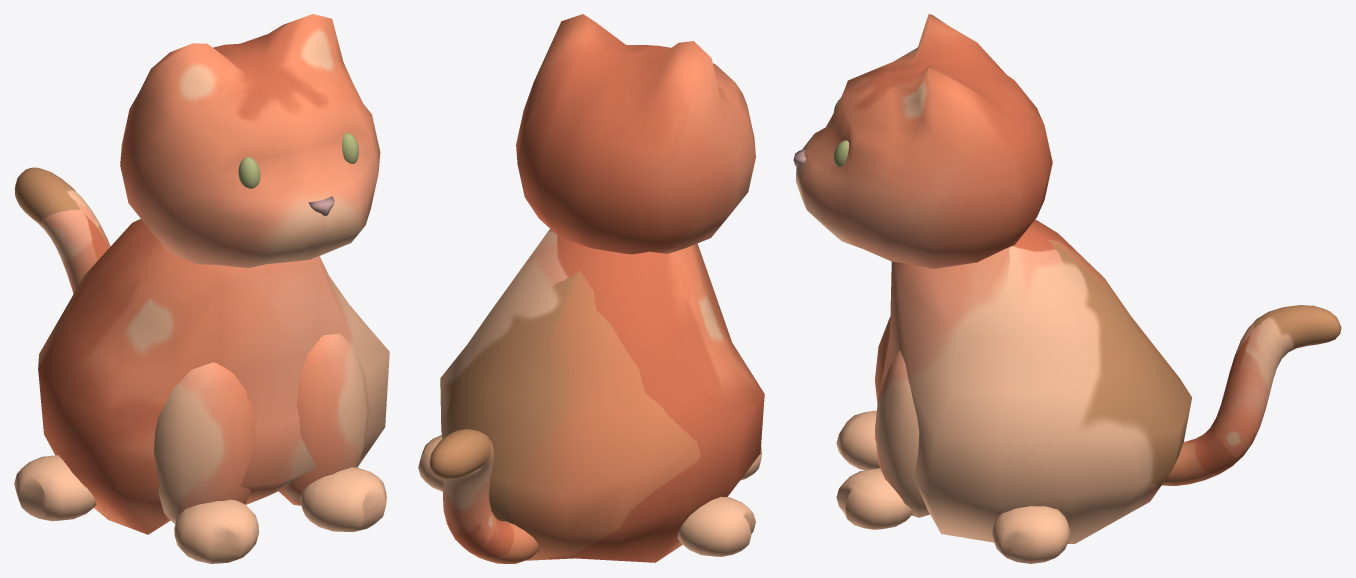
File: KATJEE.fbx
3 renders of one model, left to right at view 1: azimuth 30°, elevation 25°; view 2: azimuth 150°, elevation 25°; view 3: azimuth 270°, elevation 25°, orthographic. The views are drawn at different scales.
Parts seen in each view (by area): view 1: Cube.006, hoofdd.001, Cube.014, Cube.007, Plane.001, Cube.009, Cube.002, Cube.008, Sphere.001; view 2: Cube.006, hoofdd.001, Plane.001, Cube.008; view 3: Cube.006, hoofdd.001, Plane.001, Cube.007, Cube.008, Cube.009, Cube.002.
Boxes of the visible parts, left/top/right/bottom form: Cube.006: left=38, top=219, right=389, bottom=534; hoofdd.001: left=120, top=14, right=380, bottom=267; Cube.014: left=154, top=362, right=255, bottom=523; Cube.007: left=278, top=333, right=369, bottom=505; Plane.001: left=14, top=167, right=110, bottom=294; Cube.009: left=299, top=467, right=386, bottom=531; Cube.002: left=174, top=499, right=258, bottom=563; Cube.008: left=14, top=455, right=96, bottom=521; Sphere.001: left=238, top=133, right=358, bottom=188; Cube.006: left=440, top=229, right=764, bottom=562; hoofdd.001: left=516, top=14, right=755, bottom=254; Plane.001: left=429, top=429, right=538, bottom=563; Cube.008: left=418, top=435, right=755, bottom=556; Cube.006: left=874, top=219, right=1192, bottom=543; hoofdd.001: left=796, top=14, right=1052, bottom=269; Plane.001: left=1162, top=305, right=1341, bottom=485; Cube.007: left=875, top=350, right=929, bottom=517; Cube.008: left=991, top=506, right=1070, bottom=563; Cube.009: left=836, top=468, right=912, bottom=529; Cube.002: left=836, top=410, right=879, bottom=470.
Size of the model in its own units: 602 by 804 by 870.
Materials: 7 (4 with a texture image).
